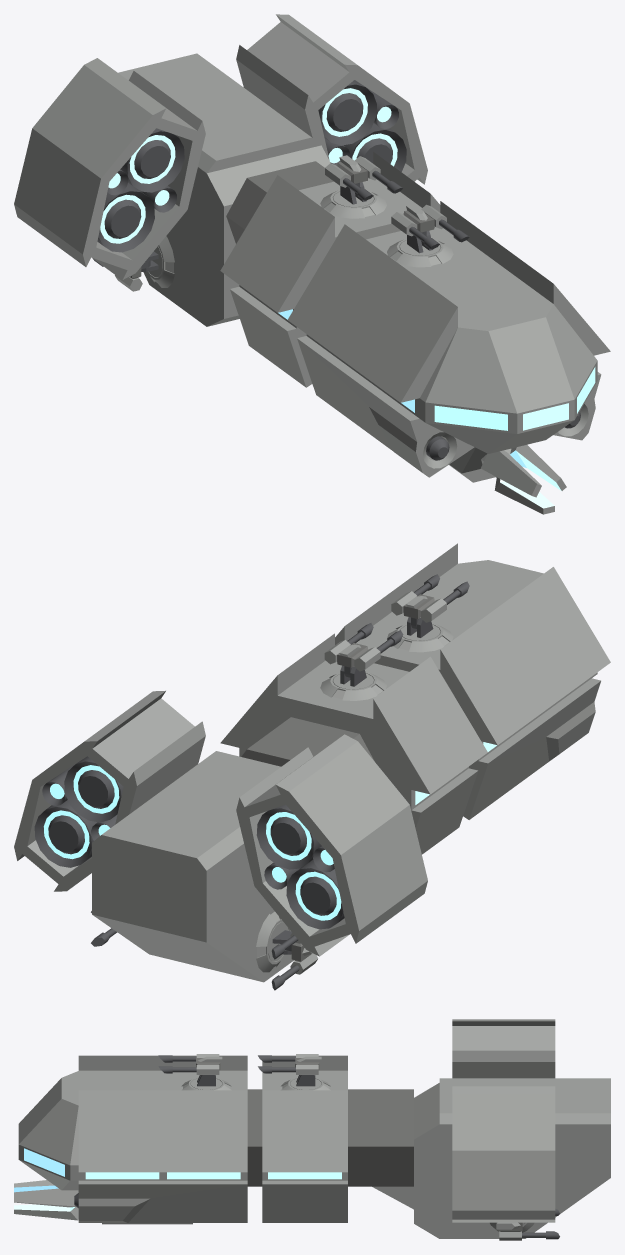
File: SpaceShip 1.fbx
3 views of the same model, one above another, from view 1: azimuth 30°, elevation 25°; view 2: azimuth 150°, elevation 25°; view 3: azimuth 270°, elevation 25° (orthographic). The views are drawn at different scales.
Parts seen in each view (by area): view 1: Starship; view 2: Starship; view 3: Starship.
Part boxes in pixels (<box>): Starship: <box>14,14,610,514</box>; Starship: <box>14,543,610,990</box>; Starship: <box>14,1019,610,1240</box>.
Size of the model in its own units: 30.14 by 18.37 by 60.48.
